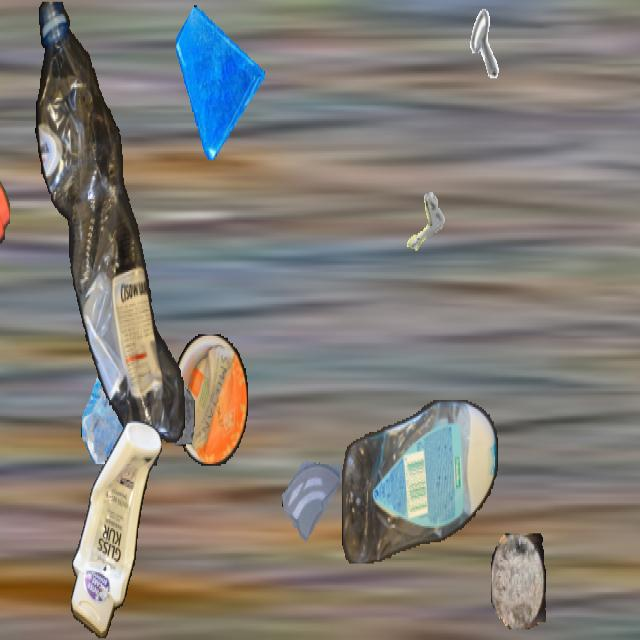glass: (176, 2, 264, 158), (81, 318, 163, 464), (129, 331, 195, 448), (282, 436, 344, 546)
metal: (438, 2, 500, 112), (389, 176, 449, 283)
plastic: (33, 2, 189, 464), (342, 400, 498, 564), (71, 422, 161, 638), (173, 334, 247, 466), (0, 171, 10, 469)
wood: (491, 534, 545, 630)
